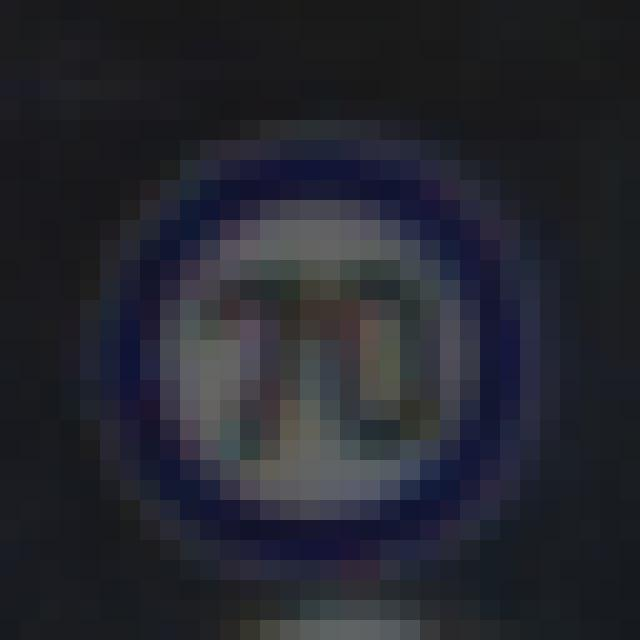SPEED LIMIT 70: (81, 125, 561, 572)
